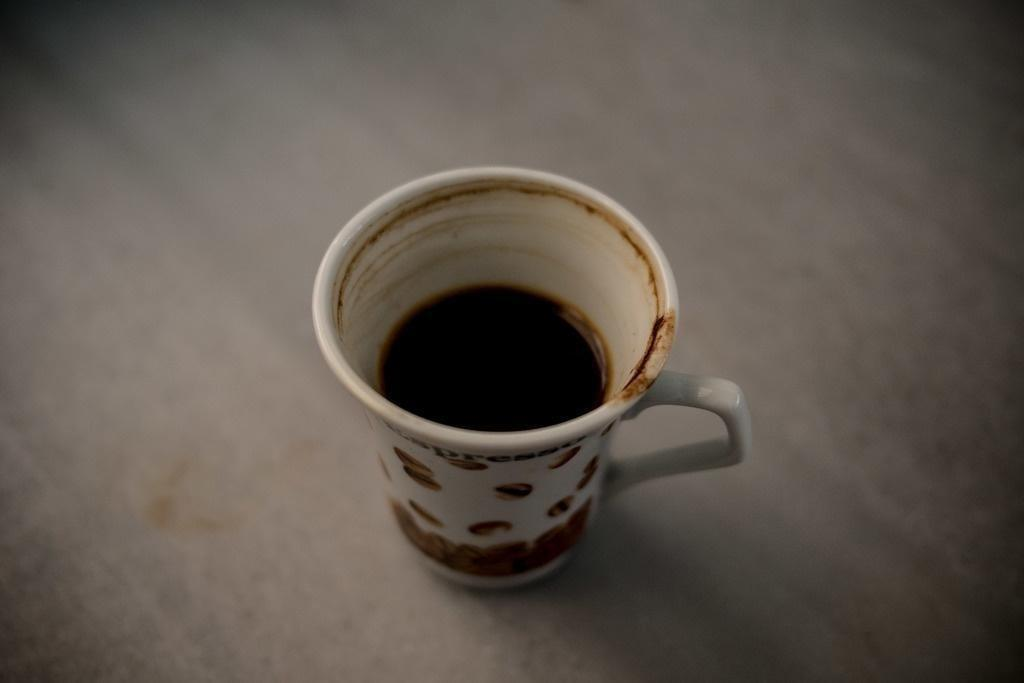cup-handle: (310, 163, 753, 591)
